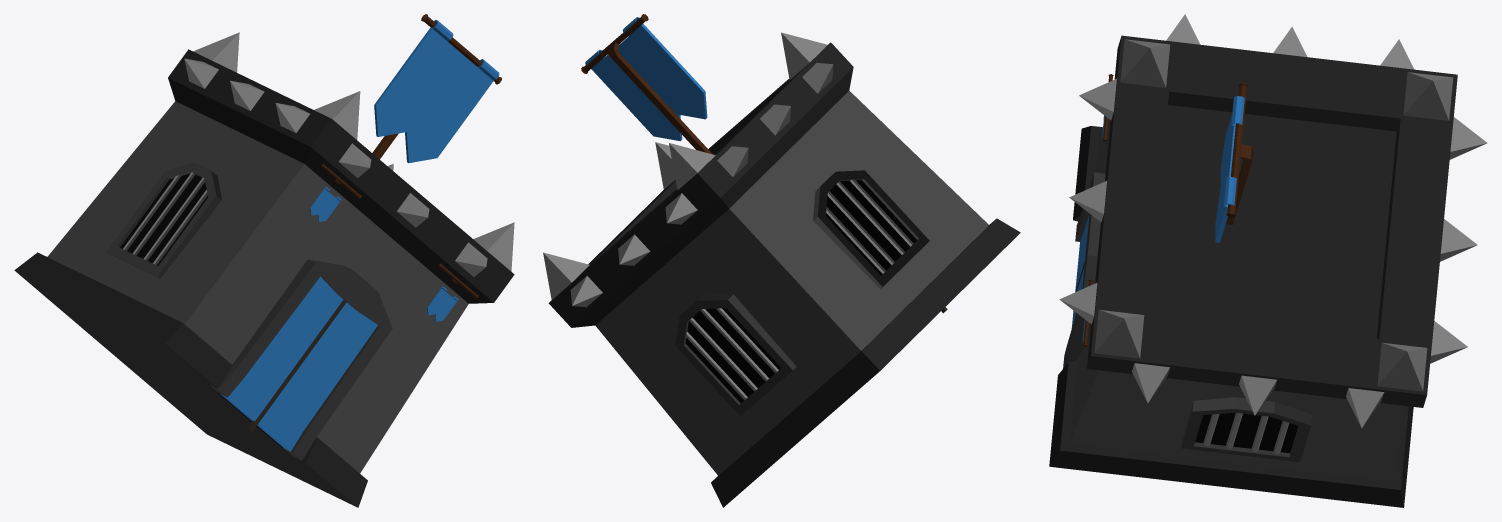
The model's file is tower3.fbx.
3 views of the same model, side by side, from view 1: azimuth 30°, elevation 25°; view 2: azimuth 150°, elevation 25°; view 3: azimuth 270°, elevation 25° (orthographic). The views are drawn at different scales.
Visible parts, largest first — view 1: CastleBlueD; view 2: CastleBlueD; view 3: CastleBlueD.
Part boxes in pixels (x1,y1,x2,y2): CastleBlueD: (14, 14, 514, 507); CastleBlueD: (543, 14, 1020, 507); CastleBlueD: (1049, 14, 1487, 507).
Bounding box in the file's own units: 360 × 372 × 288.
Materials: 3 (2 with a texture image).
